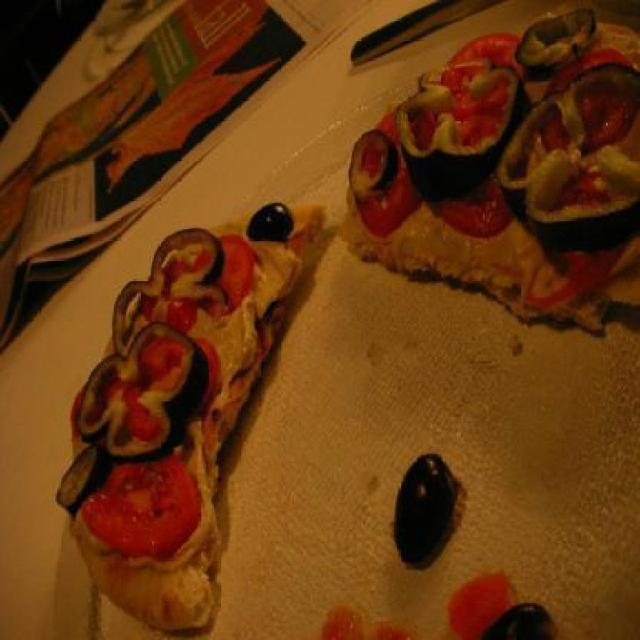Pizza: (42, 197, 316, 616), (328, 30, 632, 321)
